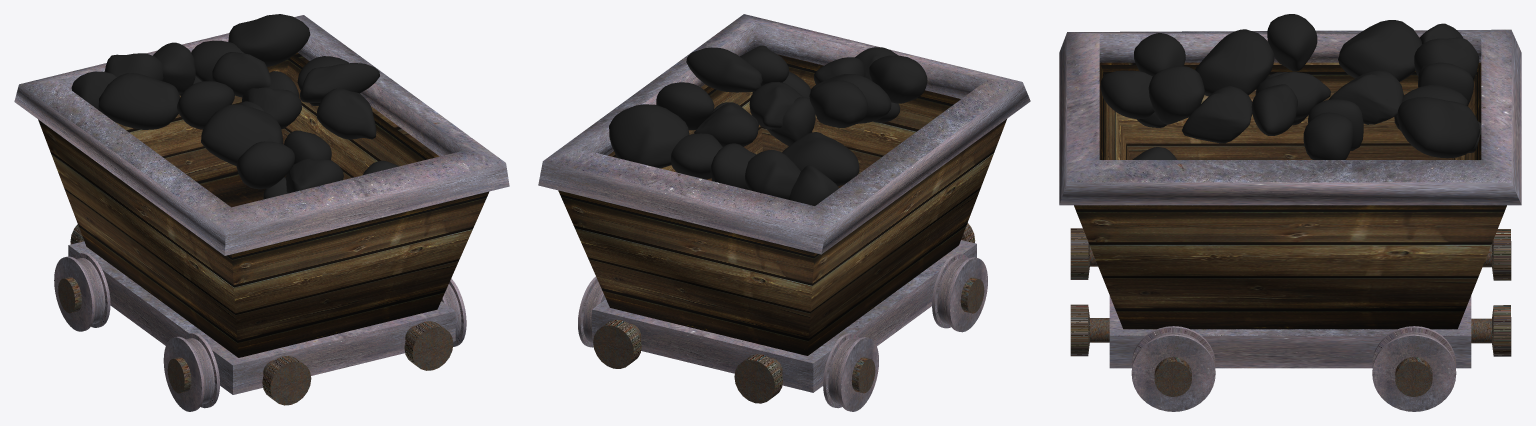
The model's file is cartStanding.fbx.
3 views of the same model, side by side, from view 1: azimuth 30°, elevation 25°; view 2: azimuth 150°, elevation 25°; view 3: azimuth 270°, elevation 25° (orthographic). The views are drawn at different scales.
Parts seen in each view (by area): view 1: Cube.1-Cube.2, coal, Cube.2-Cube.3, Cube, wheels, Cylinder.4, Cylinder.6, Cylinder.8; view 2: Cube.1-Cube.2, Cube.2-Cube.3, coal, Cube, wheels, Cylinder.4, Cylinder.6, Cylinder.8; view 3: Cube.1-Cube.2, coal, Cube.2-Cube.3, wheels, Cube, Cylinder.4, Cylinder.8, Cylinder.6.
Boxes of the visible parts, box(x1,y1,x2,y2) form: Cube.1-Cube.2: box(38, 52, 489, 357); coal: box(71, 14, 398, 199); Cube.2-Cube.3: box(14, 15, 509, 255); Cube: box(68, 241, 455, 394); wheels: box(54, 252, 466, 411); Cylinder.4: box(70, 224, 453, 405); Cylinder.6: box(167, 357, 191, 393); Cylinder.8: box(58, 277, 81, 313); Cube.1-Cube.2: box(558, 54, 1006, 355); Cube.2-Cube.3: box(538, 14, 1030, 254); coal: box(609, 45, 927, 205); Cube: box(592, 240, 976, 392); wheels: box(578, 253, 987, 411); Cylinder.4: box(593, 223, 975, 403); Cylinder.6: box(960, 277, 984, 313); Cylinder.8: box(851, 357, 875, 393); Cube.1-Cube.2: box(1074, 62, 1506, 329); coal: box(1100, 14, 1481, 159); Cube.2-Cube.3: box(1059, 29, 1521, 205); wheels: box(1131, 326, 1456, 411); Cube: box(1109, 296, 1471, 368); Cylinder.4: box(1070, 228, 1511, 356); Cylinder.8: box(1395, 357, 1432, 396); Cylinder.6: box(1154, 357, 1191, 396).
Size of the model in its own units: 265 by 238 by 340.
Materials: 8 (7 with a texture image).
